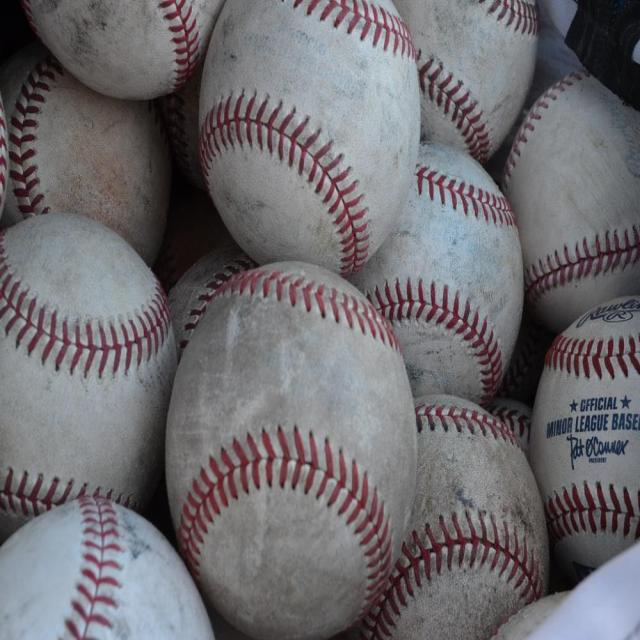baseball: (165, 256, 416, 628), (3, 210, 177, 539), (205, 4, 415, 275), (398, 395, 548, 638), (396, 144, 522, 408), (508, 71, 624, 312), (528, 309, 628, 572)
